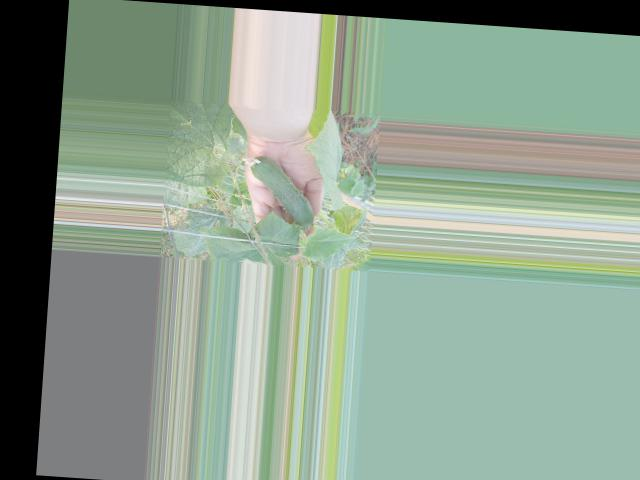cucumber: (236, 154, 317, 226)
